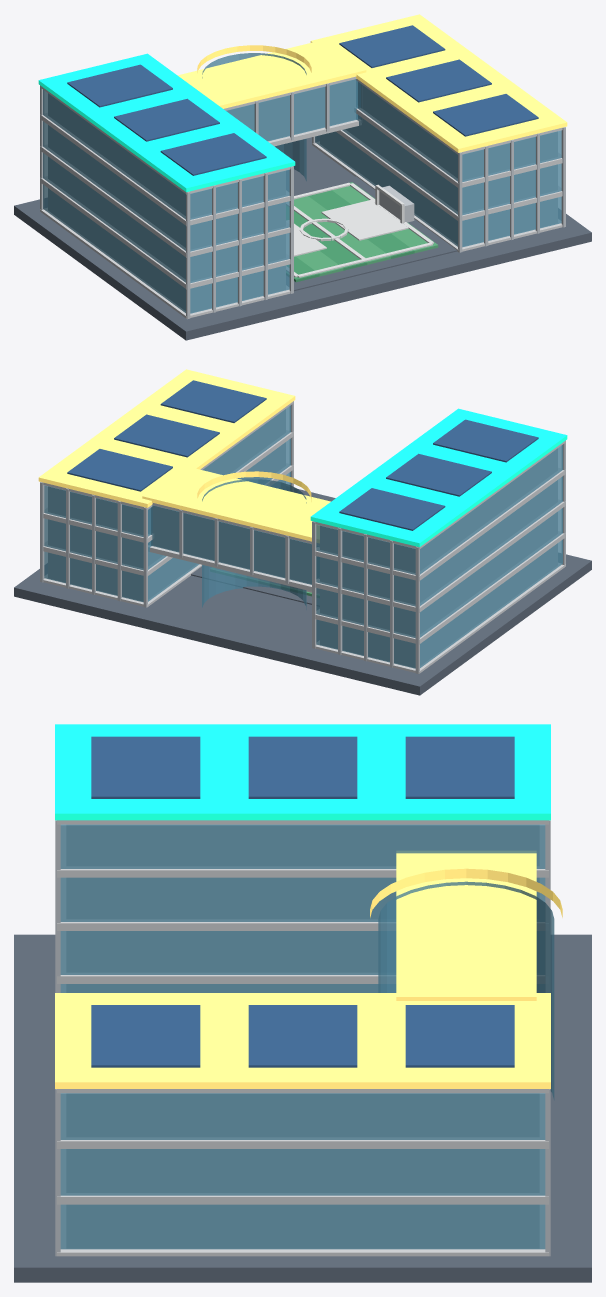
The model's file is elite_academy_complex.glb.
The picture shows the model from 3 angles, top to bottom: view 1: azimuth 30°, elevation 25°; view 2: azimuth 150°, elevation 25°; view 3: azimuth 270°, elevation 25°; orthographic projection. The views are drawn at different scales.
Visible parts, largest first — view 1: elite_academy_complex; view 2: elite_academy_complex; view 3: elite_academy_complex.
Boxes of the visible parts, x1=… form: elite_academy_complex: x1=14, y1=14, x2=591, y2=340; elite_academy_complex: x1=14, y1=369, x2=591, y2=695; elite_academy_complex: x1=14, y1=724, x2=591, y2=1282.
Size of the model in its own units: 3.76 by 1.25 by 2.76.
